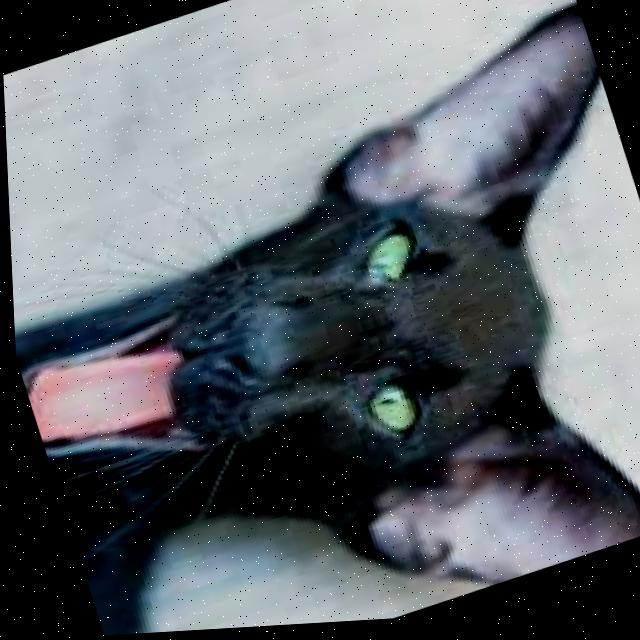Oriental: (1, 0, 640, 640)
